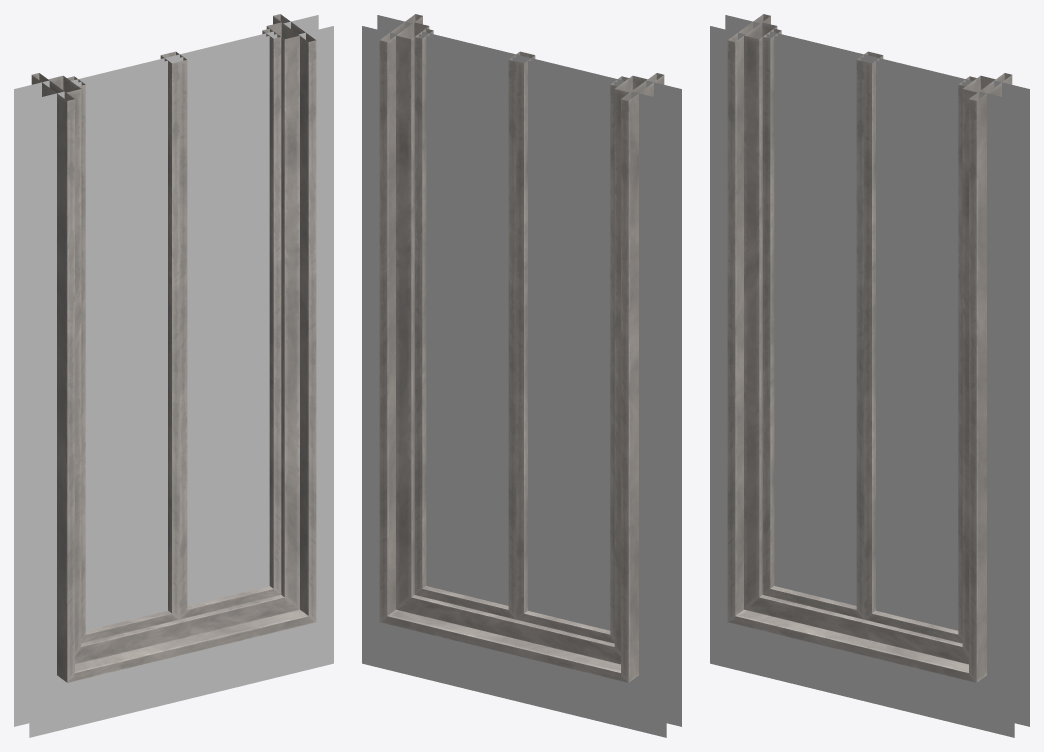
Rendered from Wall_Window_E_E.fbx.
3 renders of one model, left to right at view 1: azimuth 30°, elevation 25°; view 2: azimuth 150°, elevation 25°; view 3: azimuth 330°, elevation 25°, orthographic.
Visible parts, largest first — view 1: Wall_Window_E_E; view 2: Wall_Window_E_E; view 3: Wall_Window_E_E.
Part boxes in pixels (<box>): Wall_Window_E_E: <box>14,14,333,737</box>; Wall_Window_E_E: <box>362,14,681,737</box>; Wall_Window_E_E: <box>710,14,1029,737</box>.
Size of the model in its own units: 3 by 0.6115 by 6.
